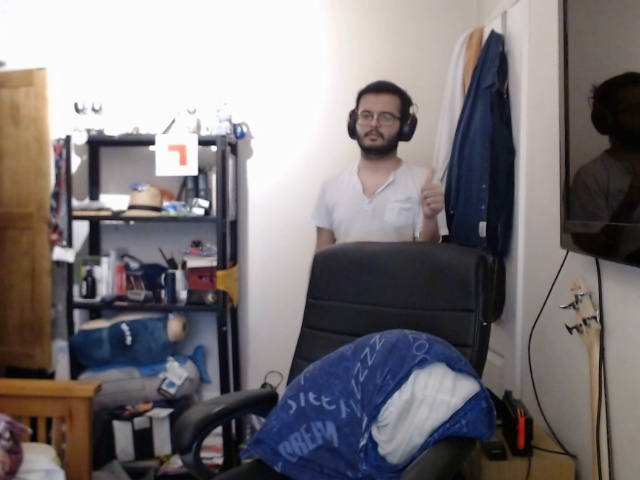Thumbs up: (407, 166, 459, 223)
